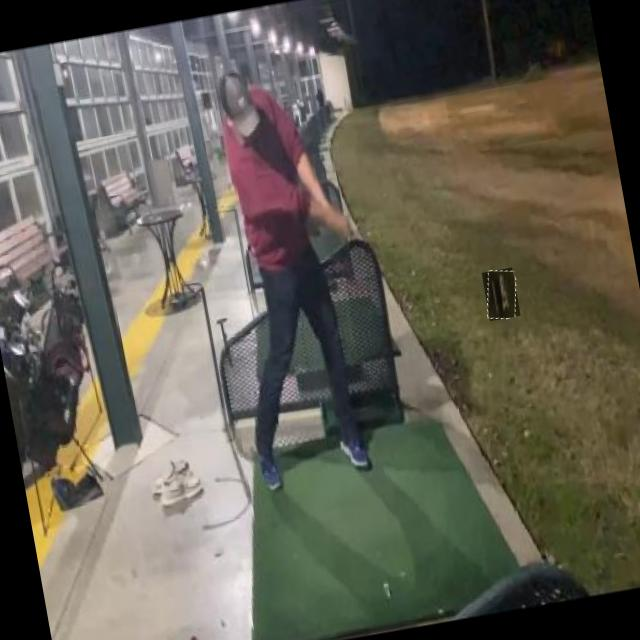club head: (481, 266, 520, 321)
